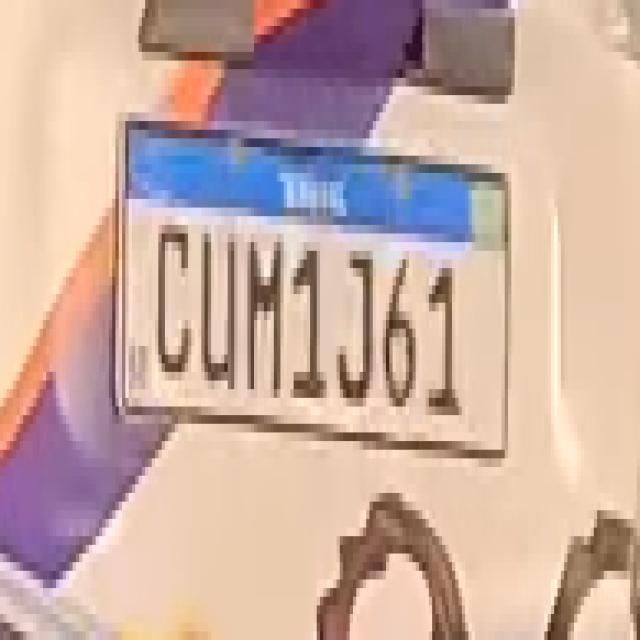Placa_mercosul_carro: (113, 111, 511, 459)
